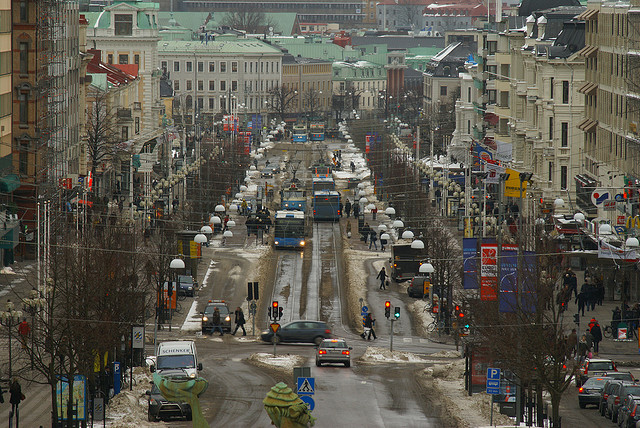Bus: (274, 211, 311, 258)
Car: (316, 338, 351, 370)
Traffic light: (266, 300, 285, 325), (394, 304, 405, 327), (383, 302, 391, 328)
